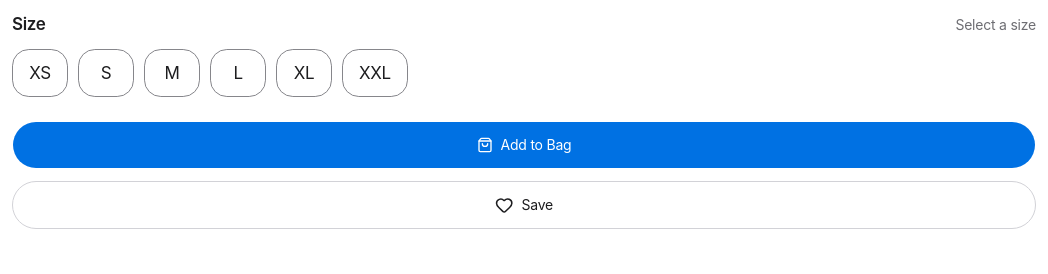
Test case: PurchasePanel › clears the size warning once a size is picked
The width and height of the screenshot is (1048, 274).
Step 1. Click the button "Add to Bag" → (524, 145), box [12,121,1036,169]
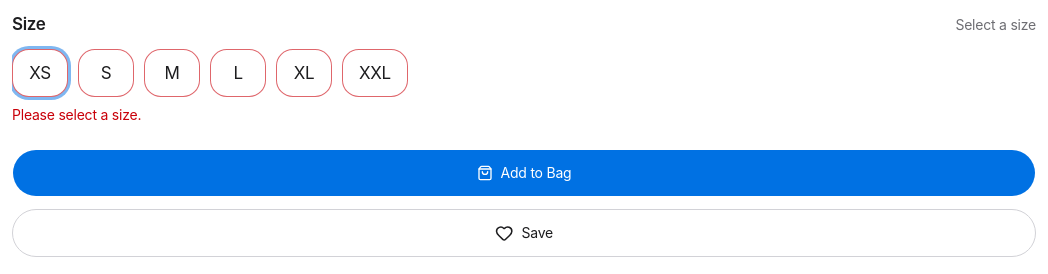
Step 2. Click the radio button labelled "L" → (238, 73), box [210,49,266,97]
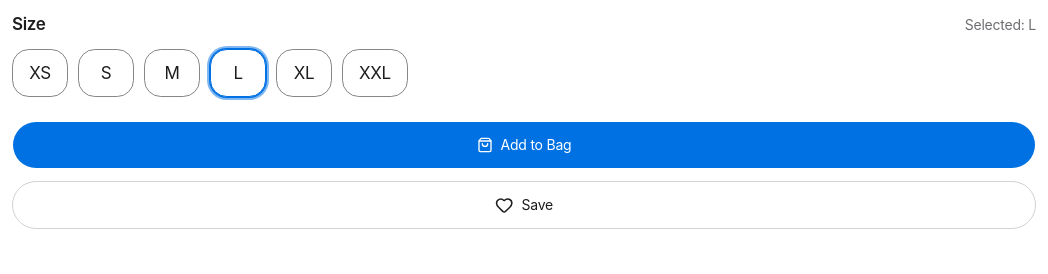
Result: the message "Please select a size." is gone
